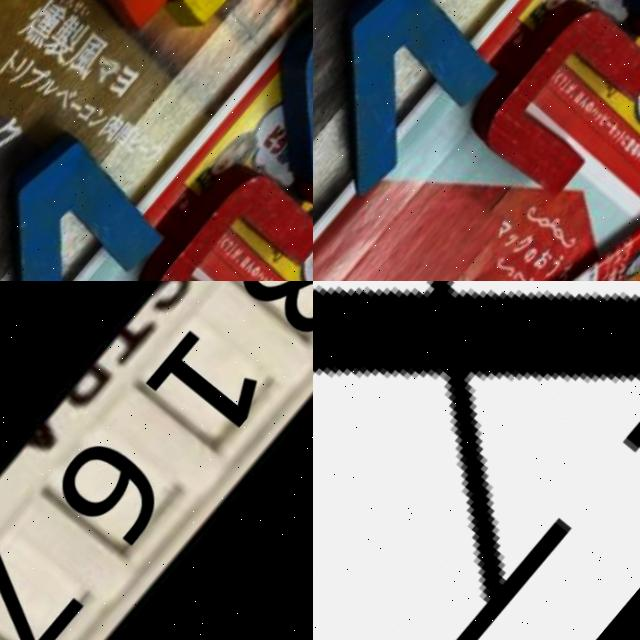1: (139, 311, 292, 458)
6: (42, 414, 198, 563)
7: (0, 526, 106, 640)
8: (223, 281, 313, 356)
J: (230, 0, 313, 193)
L: (153, 0, 313, 109)
U: (462, 0, 640, 208), (121, 145, 313, 281)
V: (313, 0, 525, 215), (0, 113, 196, 281)
W: (17, 0, 302, 41)
X: (313, 281, 640, 640)
